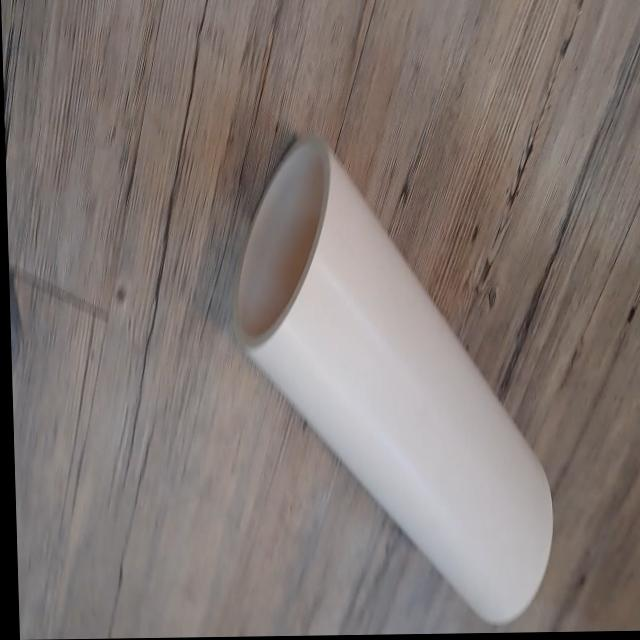CORAL: (223, 129, 564, 634)
